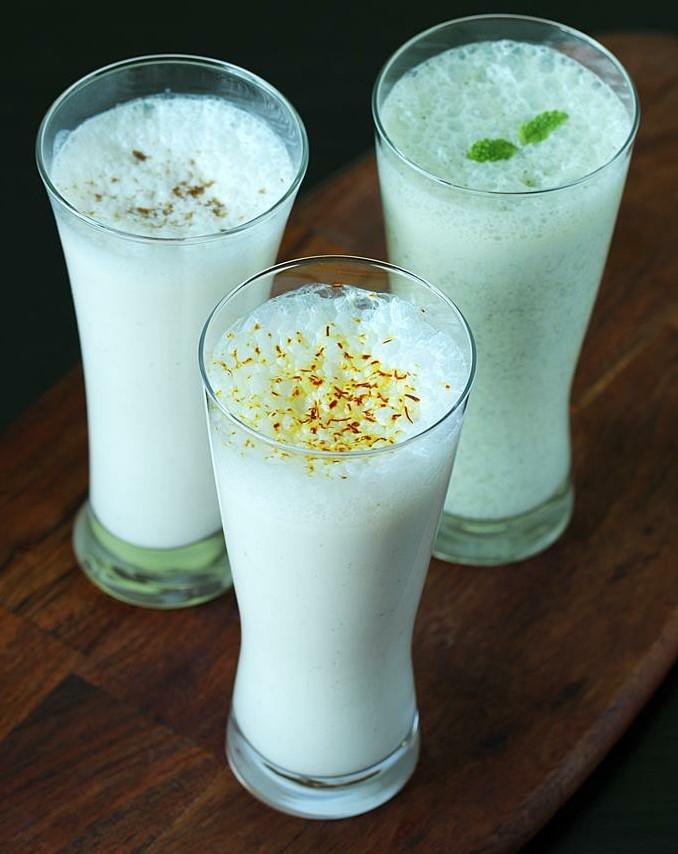Lassi: (204, 285, 465, 775), (374, 40, 634, 515), (48, 96, 307, 545)
